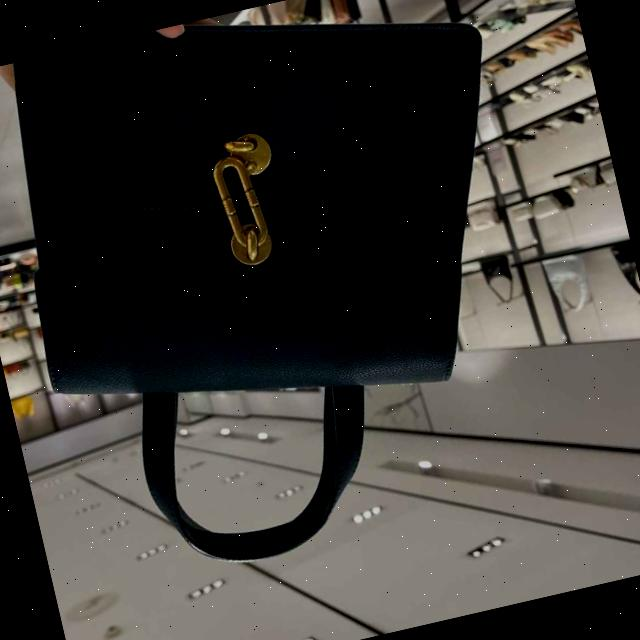Handbag: (0, 0, 570, 501)
